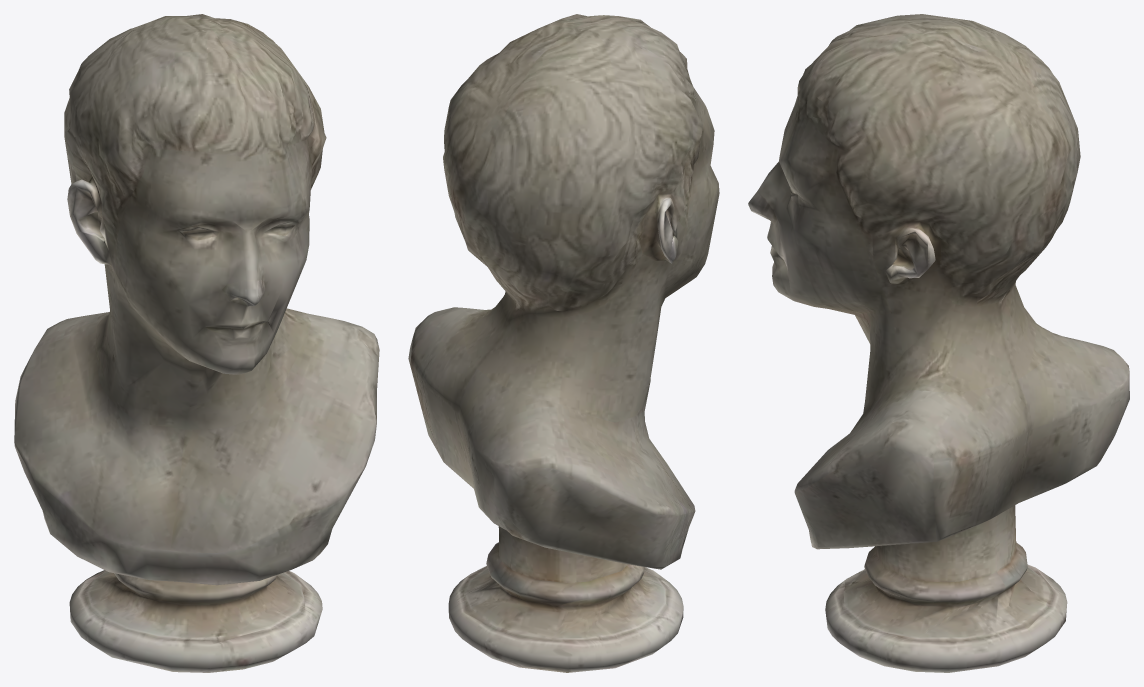
File: marble_bust_01.glb
3 renders of one model, left to right at view 1: azimuth 30°, elevation 25°; view 2: azimuth 150°, elevation 25°; view 3: azimuth 270°, elevation 25°, orthographic. The views are drawn at different scales.
Visible parts, largest first — view 1: marble_bust_01; view 2: marble_bust_01; view 3: marble_bust_01.
Part boxes in pixels (bbox=[...]): marble_bust_01: bbox=[14, 14, 379, 672]; marble_bust_01: bbox=[408, 14, 719, 672]; marble_bust_01: bbox=[748, 14, 1129, 672].
Size of the model in its own units: 0.2717 by 0.5148 by 0.2987.
Materials: 1 (1 with a texture image).
